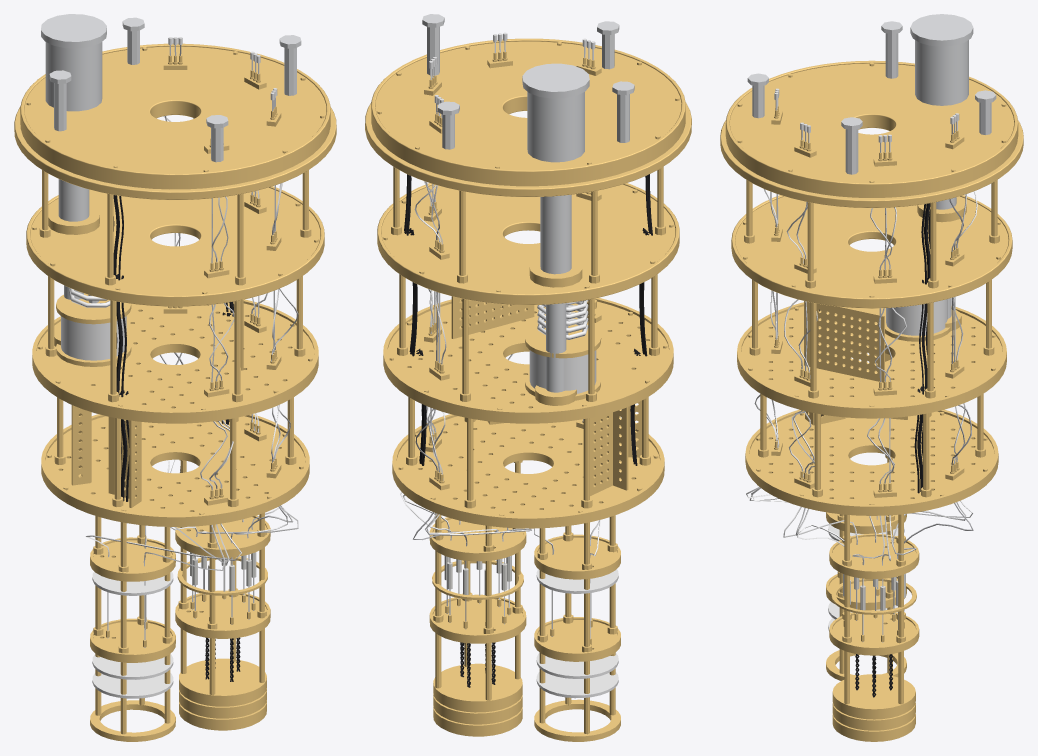
The model's file is cryostat-mobile.glb.
3 views of the same model, side by side, from view 1: azimuth 30°, elevation 25°; view 2: azimuth 150°, elevation 25°; view 3: azimuth 270°, elevation 25° (orthographic). The views are drawn at different scales.
Parts seen in each view (by area): view 1: plate-300K, gold-structure, plate-50K, plate-4K, plate-800mK, steel, plate-10mK, aluminium, coax, plate-100mK, connectors, wires (+1 smaller); view 2: plate-300K, gold-structure, plate-50K, plate-800mK, plate-4K, steel, plate-10mK, plate-100mK, aluminium, coax, connectors, wires (+2 smaller); view 3: plate-300K, gold-structure, plate-50K, plate-800mK, plate-4K, steel, coax, plate-10mK, connectors, plate-100mK, wires, aluminium (+2 smaller).
Boxes of the visible parts, box(x1,y1,x2,y2) form: plate-300K: box(14, 43, 336, 200); gold-structure: box(39, 170, 311, 741); plate-50K: box(26, 186, 324, 306); plate-4K: box(32, 299, 318, 423); plate-800mK: box(41, 414, 309, 526); steel: box(41, 14, 301, 303); plate-10mK: box(90, 590, 270, 662); aluminium: box(61, 316, 173, 698); coax: box(68, 37, 298, 647); plate-100mK: box(90, 515, 270, 581); connectors: box(26, 47, 324, 514); wires: box(113, 195, 240, 681); plate-300K: box(365, 38, 691, 197); gold-structure: box(391, 166, 665, 741); plate-50K: box(377, 183, 679, 304); plate-800mK: box(392, 414, 664, 528); plate-4K: box(383, 298, 673, 423); steel: box(422, 14, 634, 392); plate-10mK: box(429, 594, 620, 661); plate-100mK: box(429, 517, 620, 579); aluminium: box(529, 350, 618, 698); coax: box(400, 32, 600, 638); connectors: box(377, 42, 679, 515); wires: box(404, 174, 652, 687); plate-300K: box(720, 60, 1023, 208); gold-structure: box(744, 180, 999, 741); plate-50K: box(731, 195, 1012, 308); plate-800mK: box(745, 409, 998, 515); plate-4K: box(737, 302, 1006, 418); steel: box(747, 14, 996, 318); coax: box(746, 88, 977, 642); plate-10mK: box(826, 574, 919, 655); connectors: box(737, 62, 1006, 504); plate-100mK: box(826, 512, 919, 579); wires: box(819, 203, 930, 697); aluminium: box(828, 299, 947, 631).
Size of the model in its own units: 0.54 by 1.27 by 0.54.
